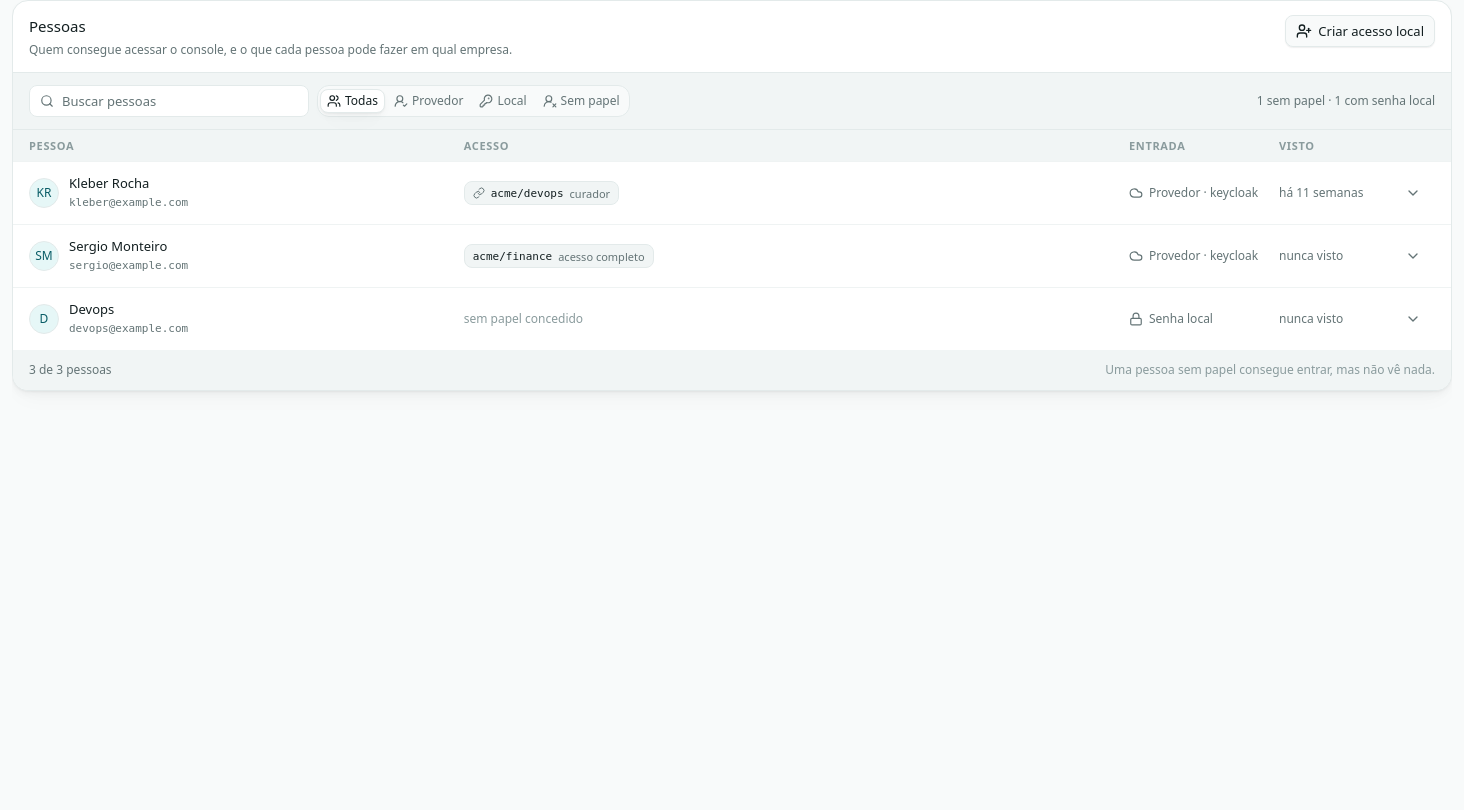
people administration › offers an installation administrator grant without making the operator type the wildcard
Click the button "Kleber Rocha": x=109, y=183 [13,162,1451,224]
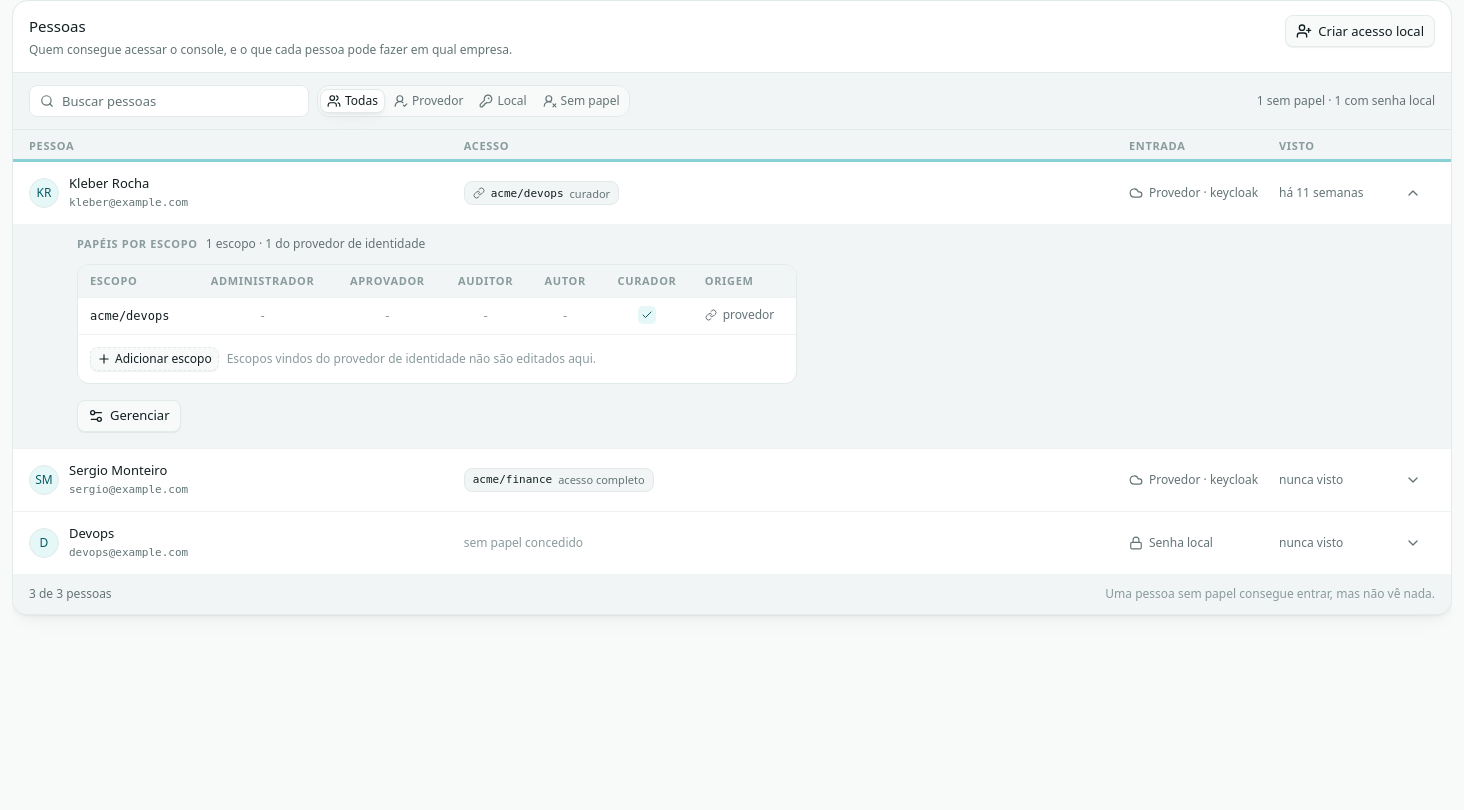
Click the button "Gerenciar": x=129, y=416 [77,400,180,432]
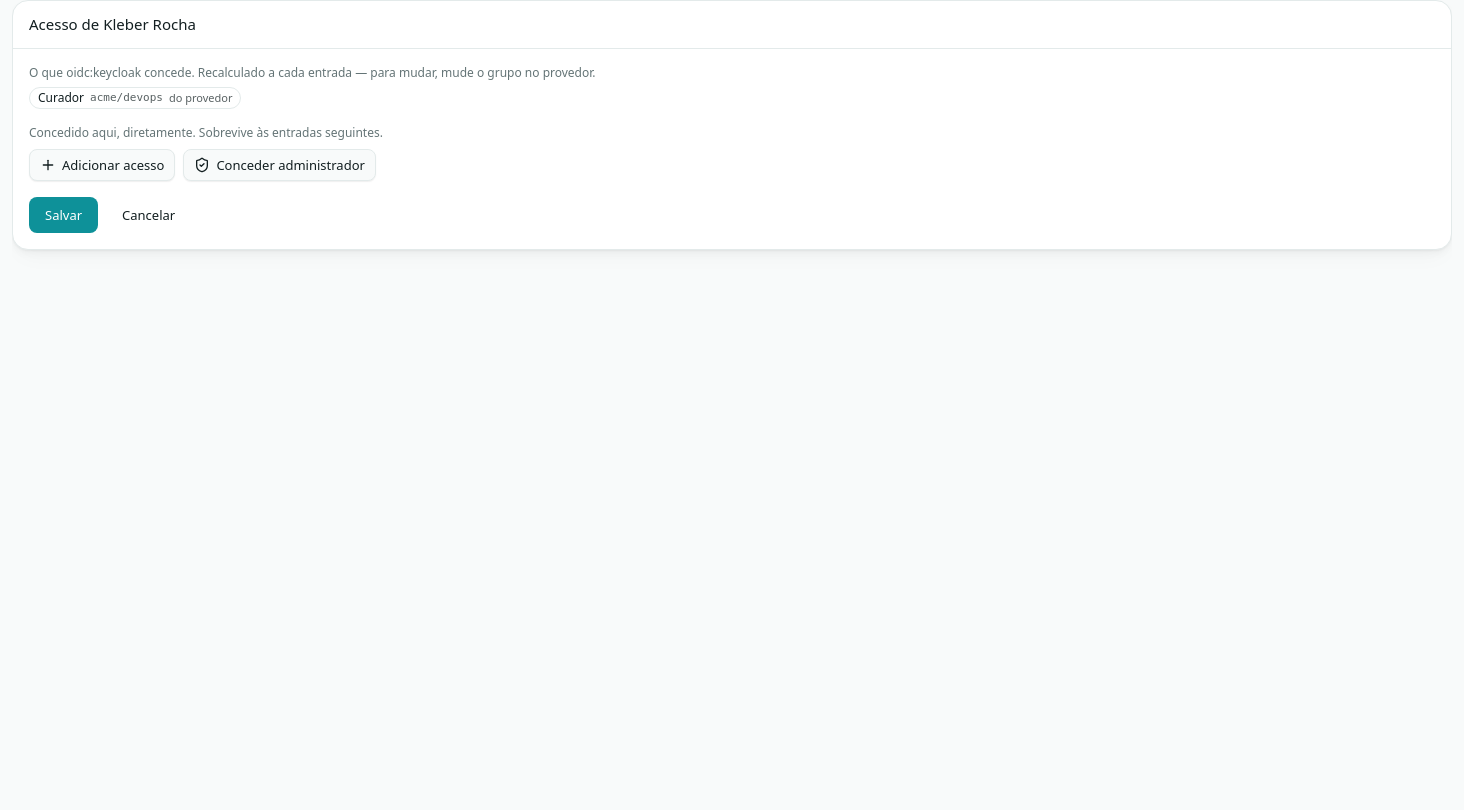
Click the button "Conceder administrador": x=280, y=165 [183,149,376,181]
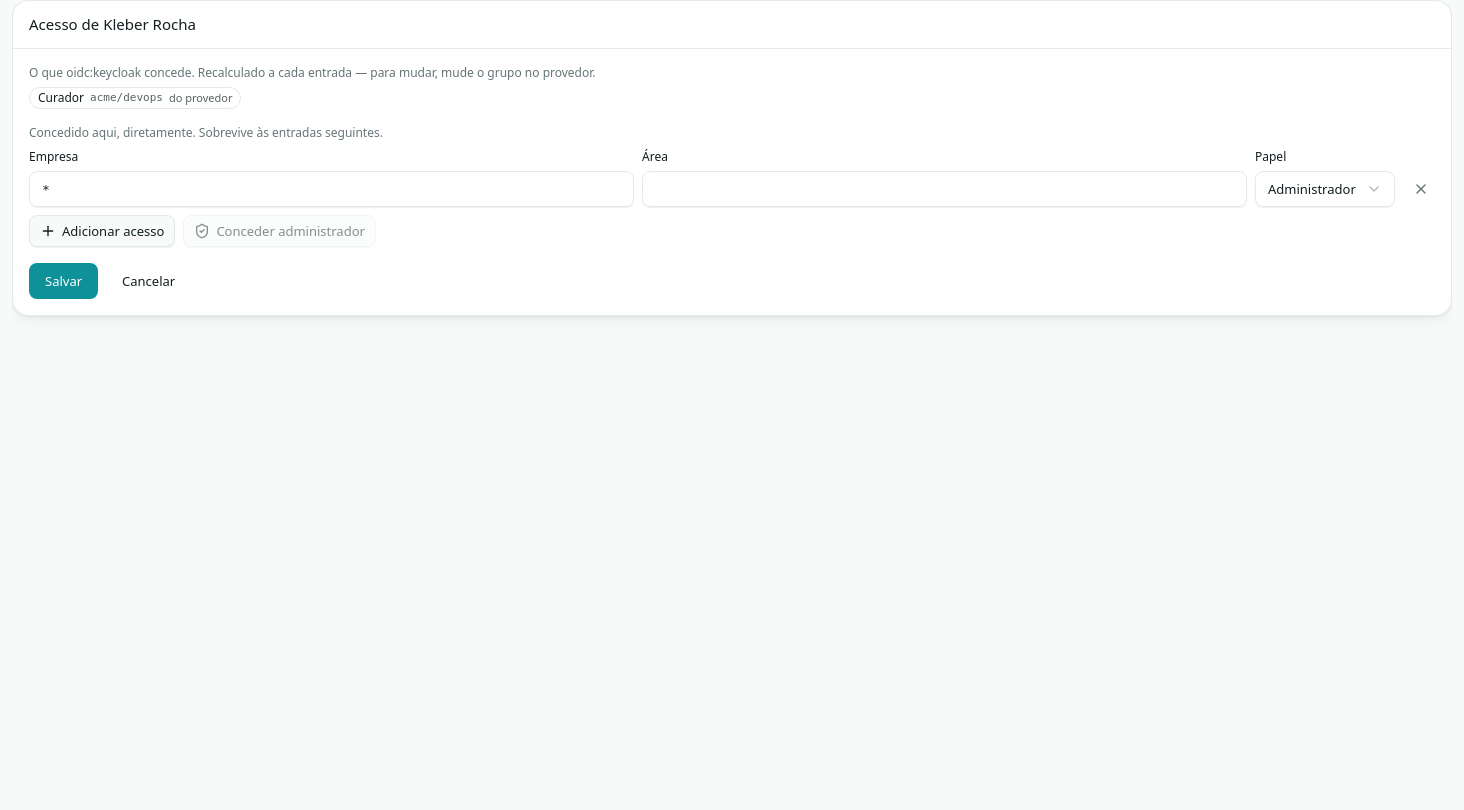
Expected: the field showing "*" is shown, [29,171,634,207]
Expected: the dropdown named "Papel" reads "Administrador", [1255,171,1395,207]
